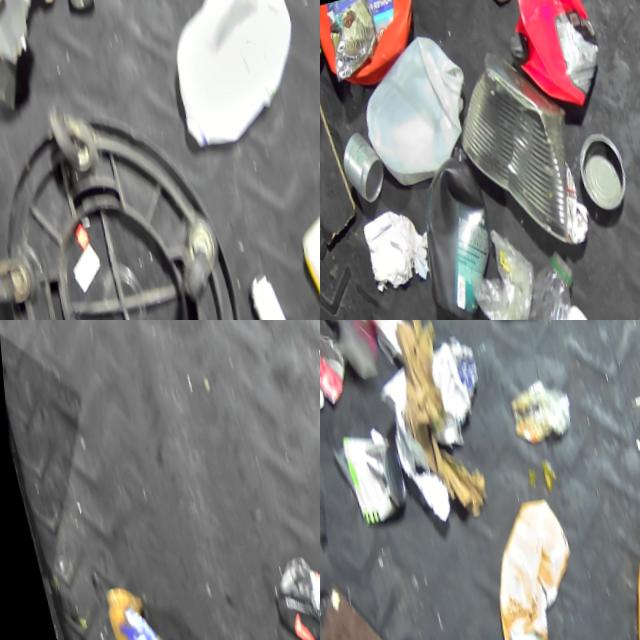can: (437, 38, 590, 270), (335, 427, 408, 532), (566, 132, 628, 224), (330, 127, 386, 211), (234, 275, 281, 320), (48, 0, 99, 18)
milk_jug: (141, 0, 308, 163), (343, 28, 484, 199), (281, 198, 320, 320)
non_white_jug: (391, 143, 506, 320), (466, 498, 587, 640), (485, 0, 608, 126), (320, 0, 430, 96)
plastic_bottle: (453, 250, 606, 320)
